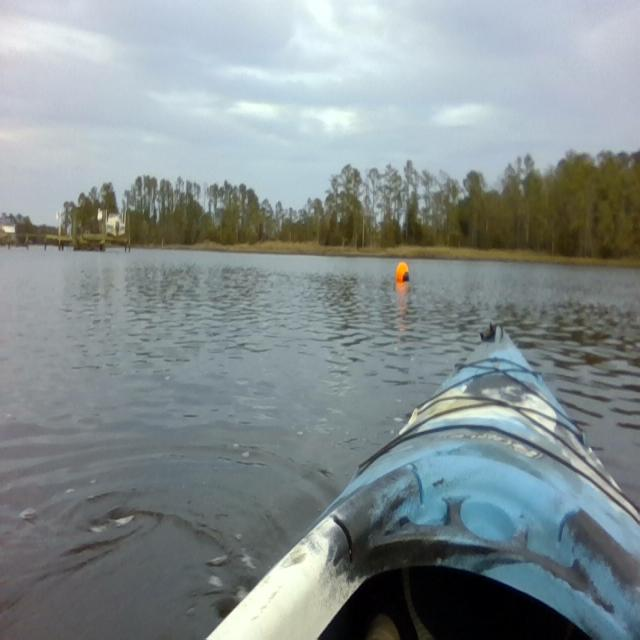Buoy: (395, 259, 410, 285)
